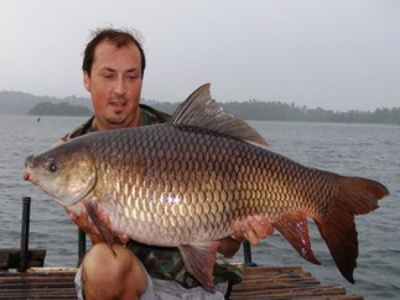rohu: (24, 82, 385, 280)
